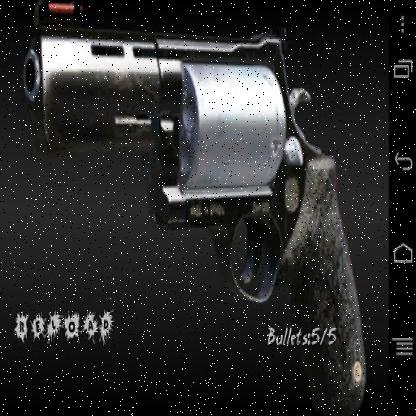pistol: (27, 1, 367, 413)
